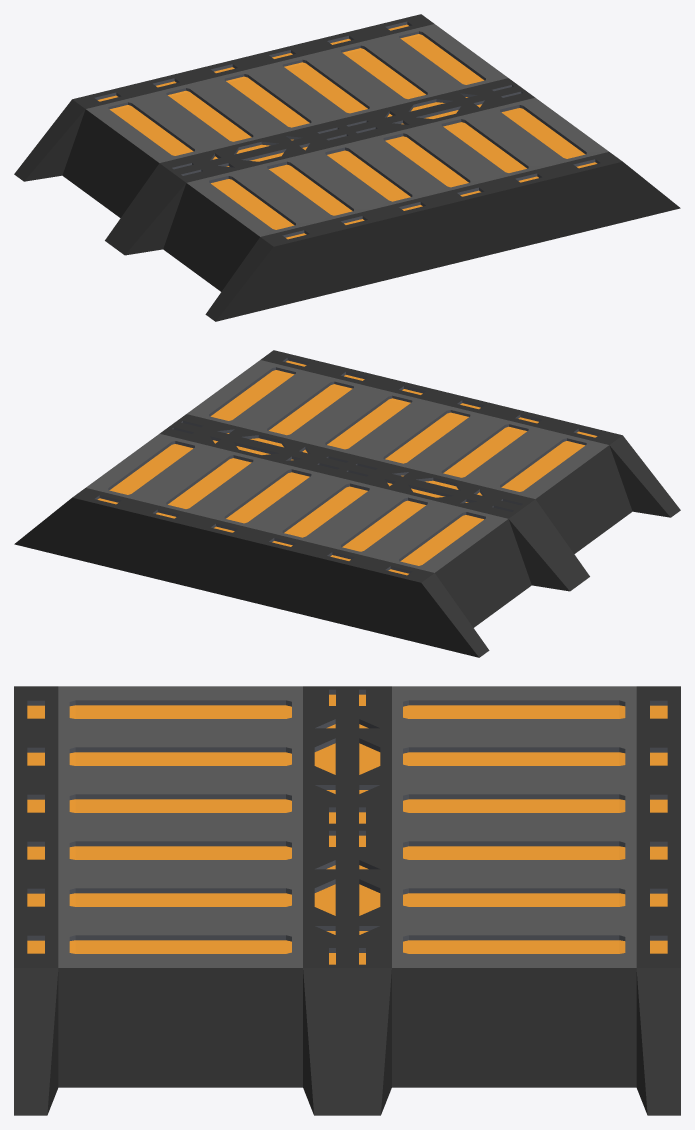
File: Floor.fbx
3 views of the same model, one above another, from view 1: azimuth 30°, elevation 25°; view 2: azimuth 150°, elevation 25°; view 3: azimuth 270°, elevation 25° (orthographic). The views are drawn at different scales.
Visible parts, largest first — view 1: Grey; view 2: Grey; view 3: Grey.
Part boxes in pixels (bbox=[...]): Grey: bbox=[14, 14, 680, 321]; Grey: bbox=[14, 350, 680, 657]; Grey: bbox=[14, 686, 680, 1115].
Bounding box in the file's own units: 800 × 100 × 600.
